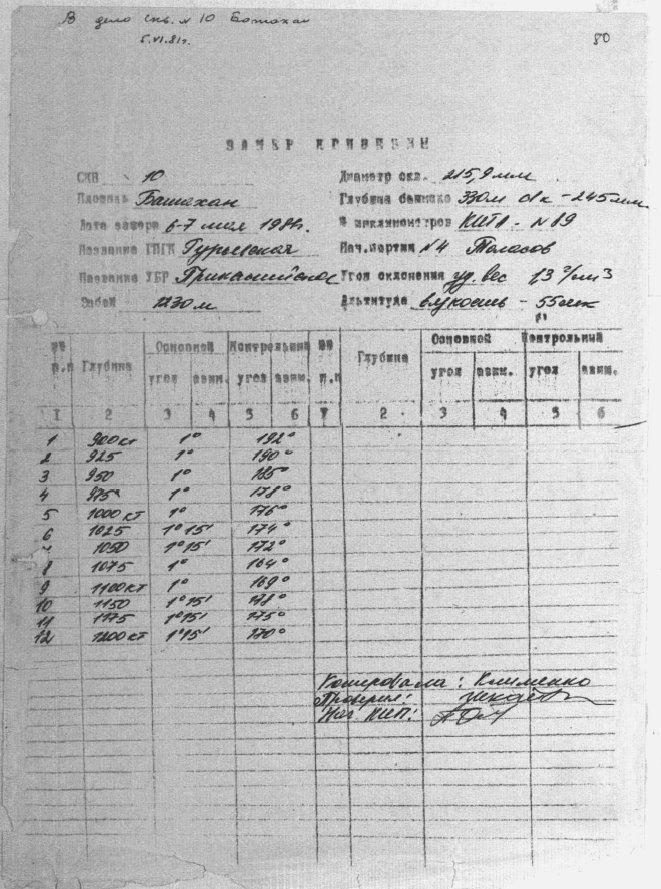Borderless: (6, 327, 632, 657)
